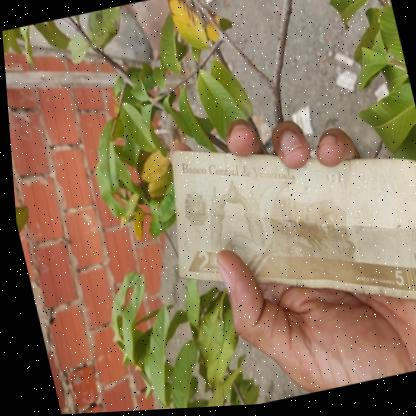five-back-vef: (145, 104, 416, 351)
